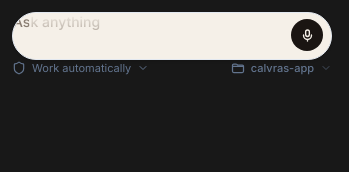
Test: composer permissions › still lets a new chat pick or clear its folder
Click the button "calvras-app".
click(281, 68)  # box [231,60,332,76]
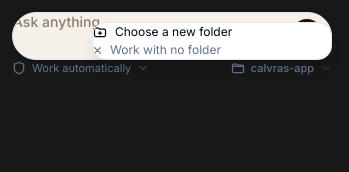
Expected: the menu item "Choose a new folder" is shown, [93,23,331,41]
Expected: the menu item "Work with no folder" is shown, [93,41,331,59]
